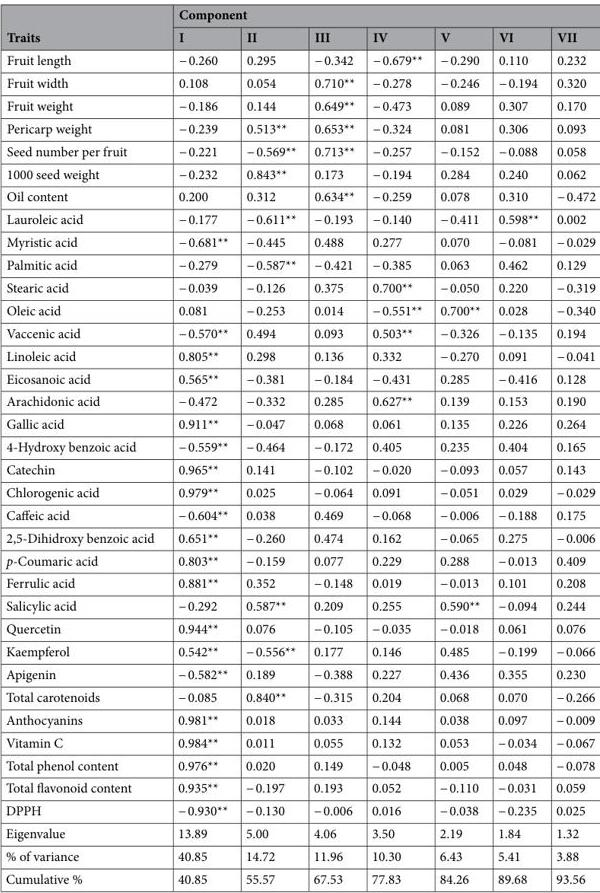table: (5, 4, 595, 887)
table column: (5, 4, 165, 887), (165, 4, 236, 887), (236, 4, 304, 887), (362, 4, 430, 887), (304, 4, 362, 887), (430, 4, 488, 887), (488, 4, 546, 887), (546, 4, 595, 887)
table column header: (5, 4, 595, 48)
table row: (5, 25, 595, 48), (5, 48, 595, 71), (5, 71, 595, 94), (5, 116, 595, 139), (5, 139, 595, 162), (5, 162, 595, 185), (5, 207, 595, 230), (5, 230, 595, 253), (5, 253, 595, 276), (5, 298, 595, 321), (5, 321, 595, 344), (5, 344, 595, 367), (5, 389, 595, 412), (5, 412, 595, 435), (5, 435, 595, 458), (5, 480, 595, 503), (5, 503, 595, 526), (5, 548, 595, 571), (5, 571, 595, 594), (5, 594, 595, 617), (5, 639, 595, 662), (5, 662, 595, 685), (5, 685, 595, 708), (5, 730, 595, 753), (5, 753, 595, 776), (5, 776, 595, 799), (5, 821, 595, 844), (5, 844, 595, 867), (5, 94, 595, 116), (5, 185, 595, 207), (5, 276, 595, 298), (5, 367, 595, 389), (5, 458, 595, 480), (5, 526, 595, 548), (5, 617, 595, 639), (5, 708, 595, 730), (5, 799, 595, 821), (5, 4, 595, 25), (5, 867, 595, 887)
table spanning cell: (165, 4, 595, 25), (5, 4, 165, 48)
